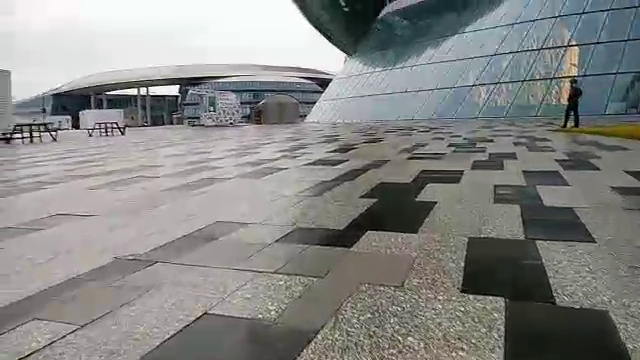kassa: (184, 85, 248, 133)
